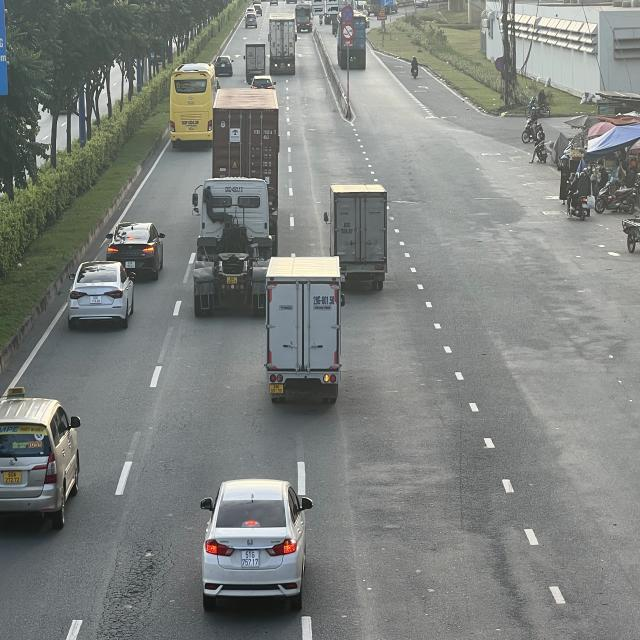car: (201, 481, 315, 612), (0, 393, 81, 525), (67, 260, 134, 328), (108, 221, 167, 279)
coach: (170, 62, 217, 147)
container: (192, 174, 280, 314), (212, 87, 282, 185), (270, 12, 298, 74)
truck: (265, 254, 344, 400), (323, 182, 388, 292), (244, 44, 268, 80)
